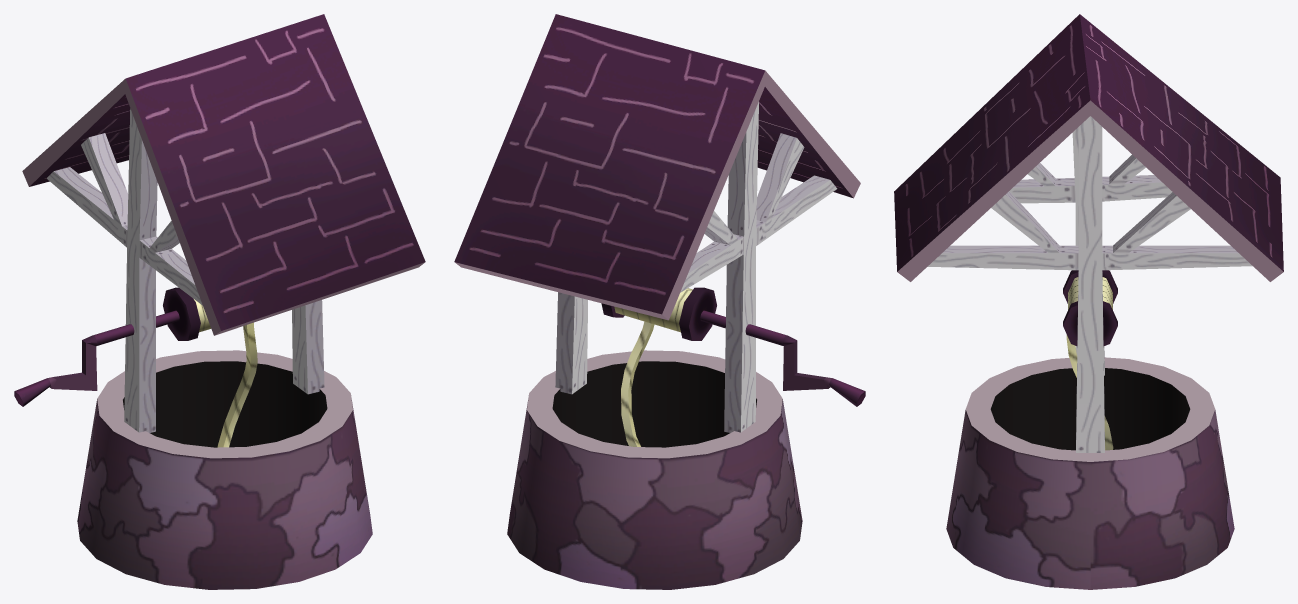
Rendered from saa7zwell.dae.
3 renders of one model, left to right at view 1: azimuth 30°, elevation 25°; view 2: azimuth 150°, elevation 25°; view 3: azimuth 270°, elevation 25°, orthographic. The views are drawn at different scales.
Parts seen in each view (by area): view 1: Well; view 2: Well; view 3: Well.
Boxes of the visible parts, x1=… form: Well: x1=14, y1=14, x2=425, y2=589; Well: x1=454, y1=14, x2=865, y2=589; Well: x1=894, y1=14, x2=1283, y2=589.
Bounding box in the file's own units: 10.3 × 14.29 × 10.62.
